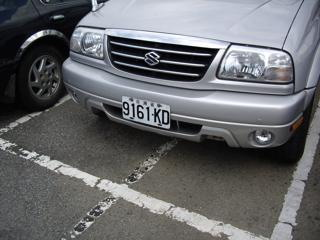plate: (120, 95, 171, 128)
